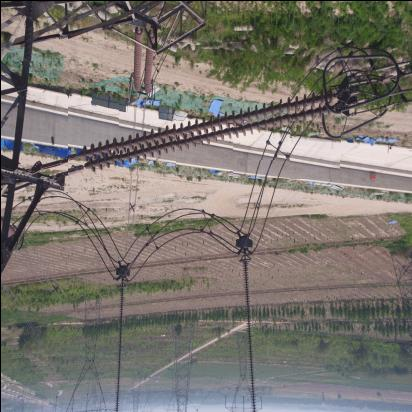insulator: (68, 84, 342, 178)
